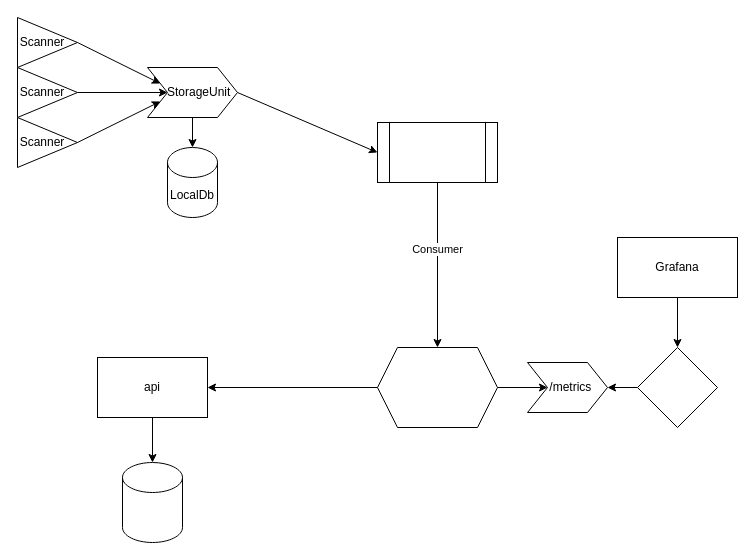
Image size: 755x560. Some labels were removed from this diagram. Here are the shapes that lost their labels. From the top down, the centre of each, then its label:
At (437,152): "Kafka Broker".
At (437,387): "Aggregator".
At (677,387): "Prometheus".
At (152,502): "Db".
